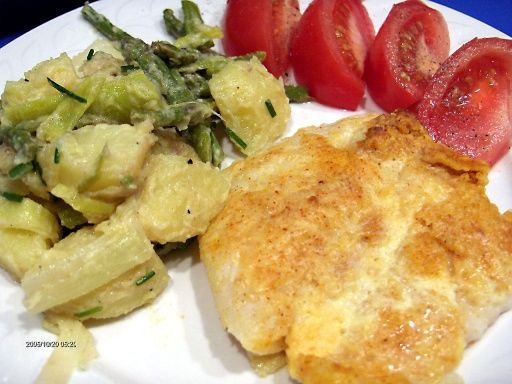background: (0, 0, 410, 230)
